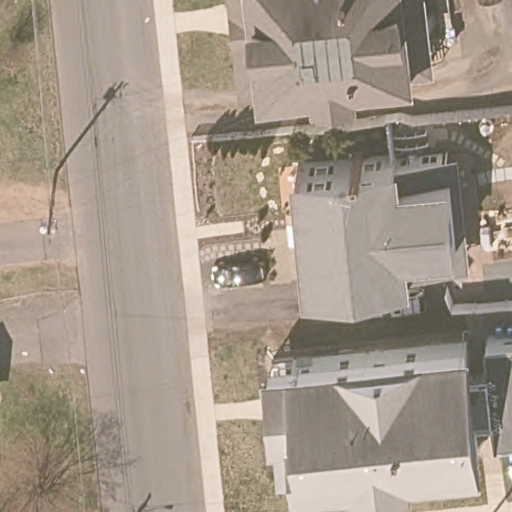DT: (39, 171, 61, 237)
